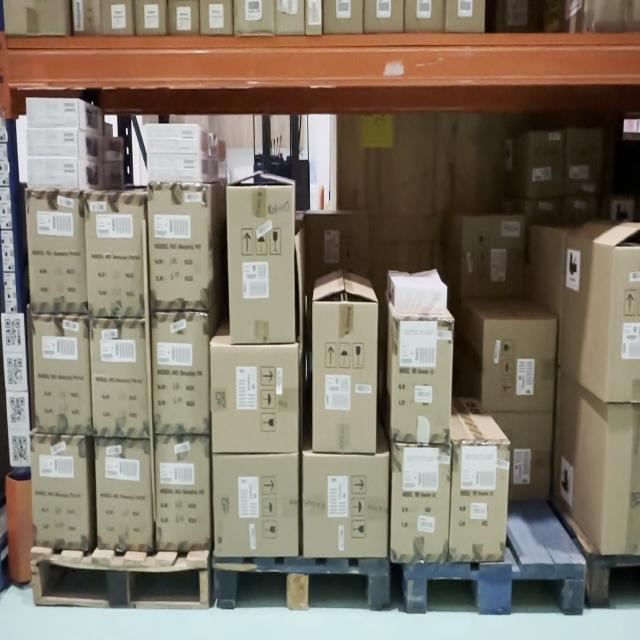box: (228, 184, 292, 348), (213, 347, 301, 456), (314, 306, 372, 452), (306, 457, 384, 563), (216, 456, 300, 554), (150, 186, 208, 308), (27, 191, 86, 310), (88, 192, 142, 318), (33, 318, 91, 435), (394, 324, 452, 438), (31, 434, 88, 549), (394, 446, 446, 566), (94, 448, 152, 554), (94, 318, 146, 436), (152, 318, 207, 428), (485, 323, 558, 405), (454, 448, 505, 560), (140, 125, 201, 150), (29, 156, 78, 186), (26, 127, 77, 154), (27, 99, 78, 126), (149, 152, 202, 174)
